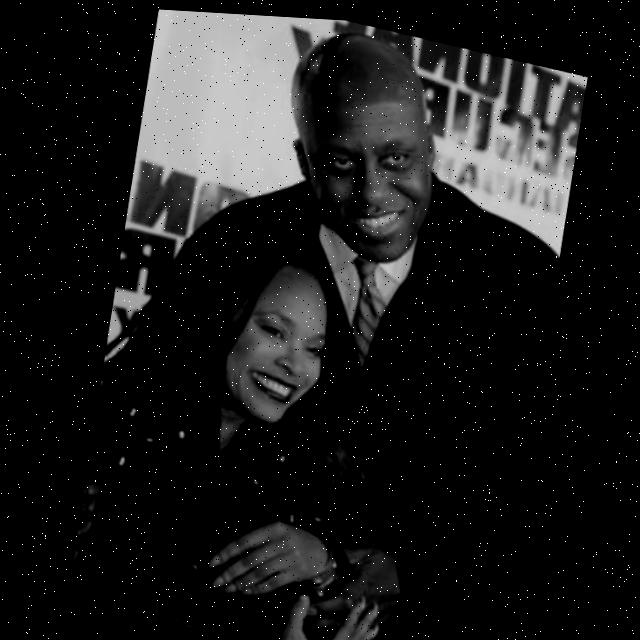face: (291, 58, 445, 264), (209, 249, 340, 450)
